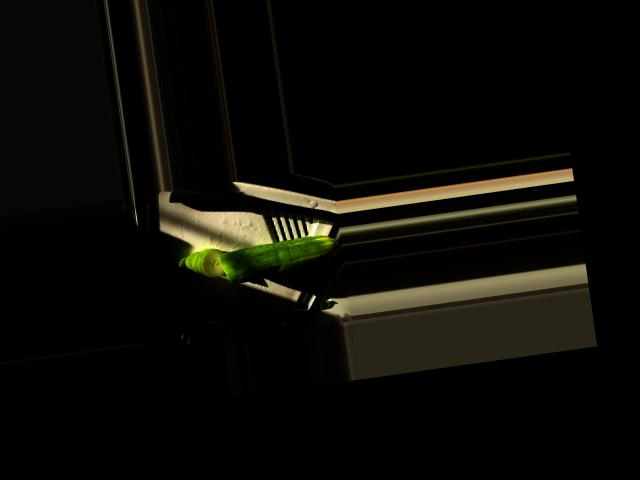cucumber: (217, 232, 341, 284)
